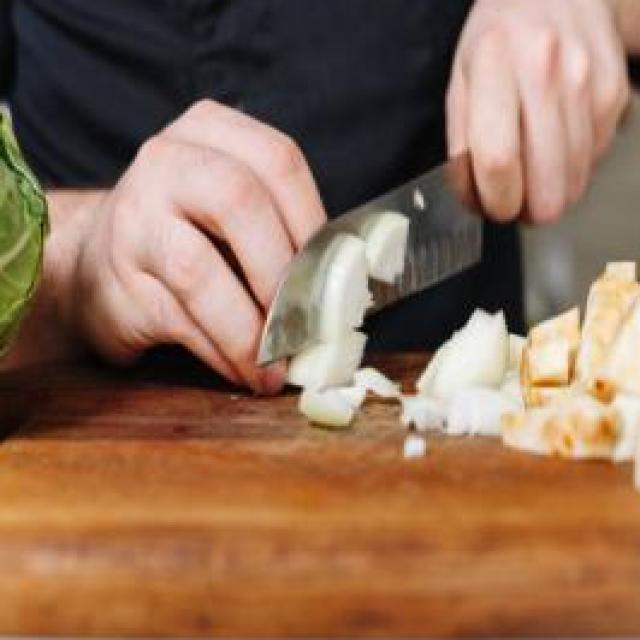knife: (252, 137, 514, 372)
